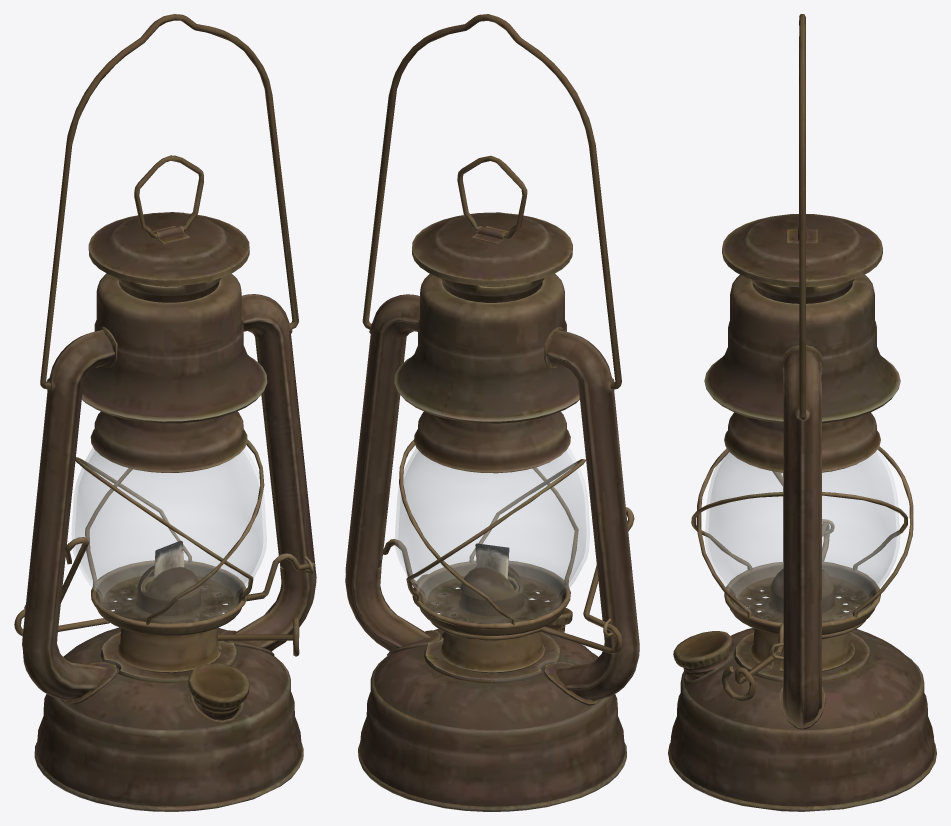
File: lantern_01.glb
The picture shows the model from 3 angles, left to right: view 1: azimuth 30°, elevation 25°; view 2: azimuth 150°, elevation 25°; view 3: azimuth 270°, elevation 25°; orthographic projection.
Parts seen in each view (by area): view 1: body, glass; view 2: body, glass; view 3: body, glass.
Boxes of the visible parts, left/top/right/bottom form: body: left=14, top=14, right=316, bottom=811; glass: left=71, top=448, right=266, bottom=623; body: left=345, top=14, right=639, bottom=811; glass: left=395, top=447, right=589, bottom=623; body: left=668, top=14, right=936, bottom=811; glass: left=705, top=448, right=899, bottom=622.
Bounding box in the file's own units: 0.1221 × 0.2942 × 0.097.
2 materials, 1 textured.
